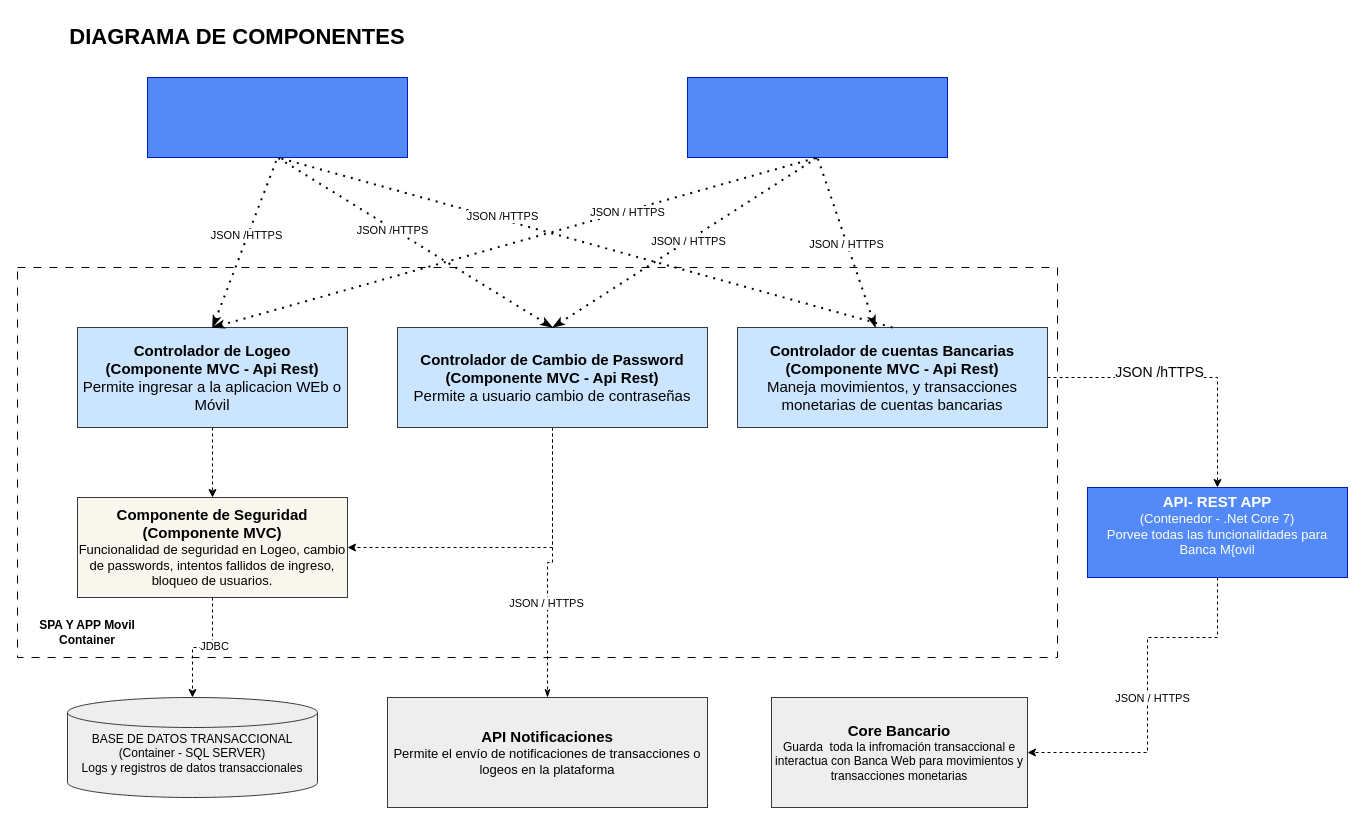
Some shapes in this 1365 by 825 pixel diagram are drawn without their labels. Here are the shapes that lost their labels. From the top down, the centre of each, then its label:
the point at 277,117: SPA (Contenedor - Angular / .NET) Funcionalidad de Banca WEB
the point at 817,117: Aplicación Mobile (Contenedor - Flutter) Funcionalidad de Banca Movil.
